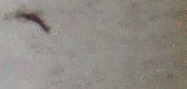Exposed reinforcement: (21, 13, 49, 32)
